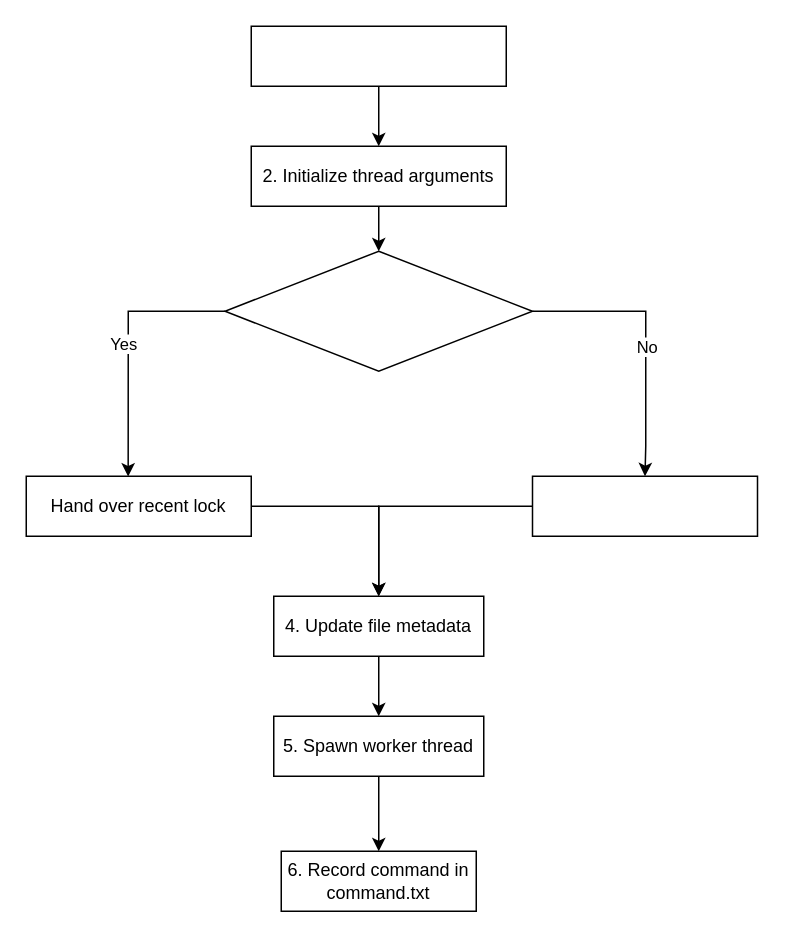
This 785x938 diagram has some shape labels left out. The shapes that lost their labels are listed below. From the top down, each one's box as (x1, y1, x2, y2) in pixels, then its label:
(250, 25, 506, 86): 1. Parse and store user input in `command` struct
(224, 250, 532, 371): 3. Is filepath in metadata tracker?
(531, 475, 758, 536): Create and add to metadata tracker. Initialize HoH locking
